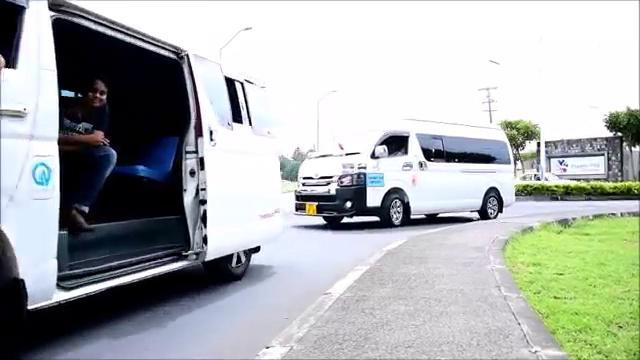van: (294, 121, 522, 229)
